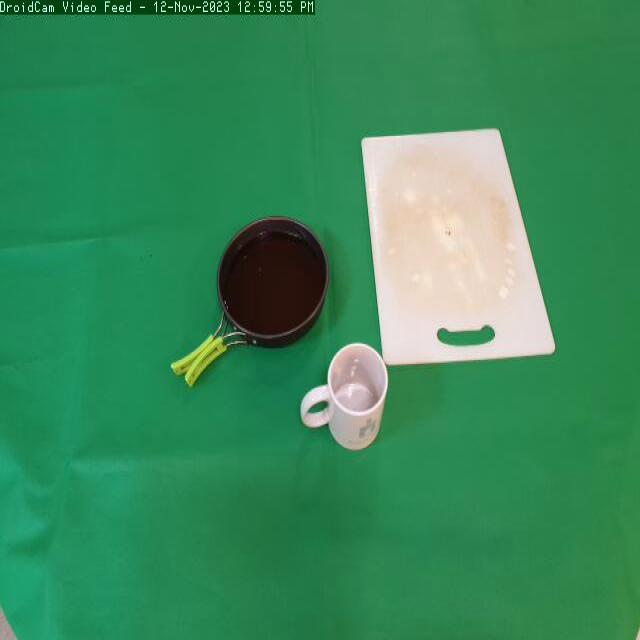cup: (300, 334, 393, 462)
cutting board: (355, 116, 563, 382)
fullpan: (166, 209, 334, 395)
